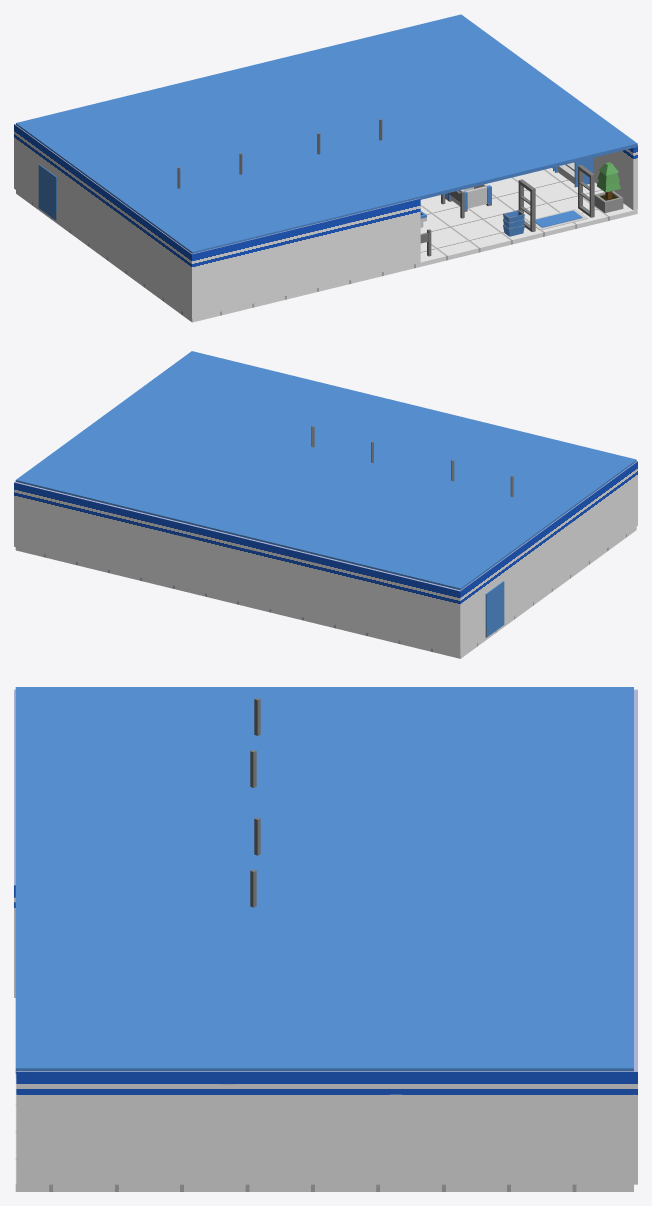
File: SquareMart.fbx
The picture shows the model from 3 angles, top to bottom: view 1: azimuth 30°, elevation 25°; view 2: azimuth 150°, elevation 25°; view 3: azimuth 270°, elevation 25°; orthographic projection. The views are drawn at different scales.
Visible parts, largest first — view 1: Supermarket_Floor1, Supermarket_Wall, Supermarket_Floor, Plant1, Fast_Food_Door1, Bargin_Box4, Theft_Scanner1, Theft_Scanners; view 2: Supermarket_Floor1, Supermarket_Wall, Supermarket_Floor, Fast_Food_Door1; view 3: Supermarket_Floor1, Supermarket_Wall, Supermarket_Floor.
Boxes of the visible parts, left/top/right/bottom form: Supermarket_Floor1: left=16, top=14, right=637, bottom=253; Supermarket_Wall: left=14, top=123, right=637, bottom=318; Supermarket_Floor: left=16, top=168, right=637, bottom=322; Plant1: left=594, top=162, right=623, bottom=213; Fast_Food_Door1: left=38, top=164, right=57, bottom=220; Bargin_Box4: left=447, top=184, right=491, bottom=211; Theft_Scanner1: left=578, top=165, right=594, bottom=217; Theft_Scanners: left=518, top=179, right=535, bottom=231; Supermarket_Floor1: left=15, top=351, right=636, bottom=590; Supermarket_Wall: left=14, top=461, right=637, bottom=655; Supermarket_Floor: left=15, top=527, right=636, bottom=658; Fast_Food_Door1: left=485, top=581, right=504, bottom=637; Supermarket_Floor1: left=15, top=687, right=633, bottom=1073; Supermarket_Wall: left=14, top=689, right=637, bottom=1184; Supermarket_Floor: left=15, top=1074, right=633, bottom=1191.
Bounding box in the file's own units: 173 × 33.6 × 119.
Materials: 17 (2 with a texture image).
